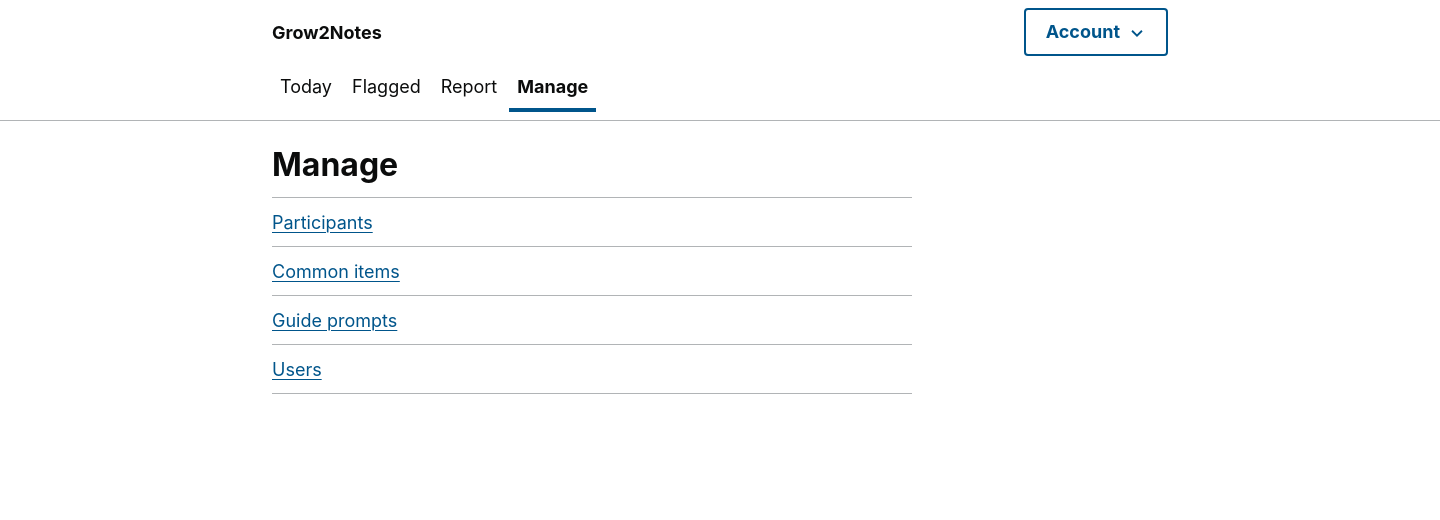
Manage › opens the participant list from Participants, not Page not found, with Manage still marked
Step 1. Click the link "Participants" → (322, 222), box [272, 212, 373, 232]
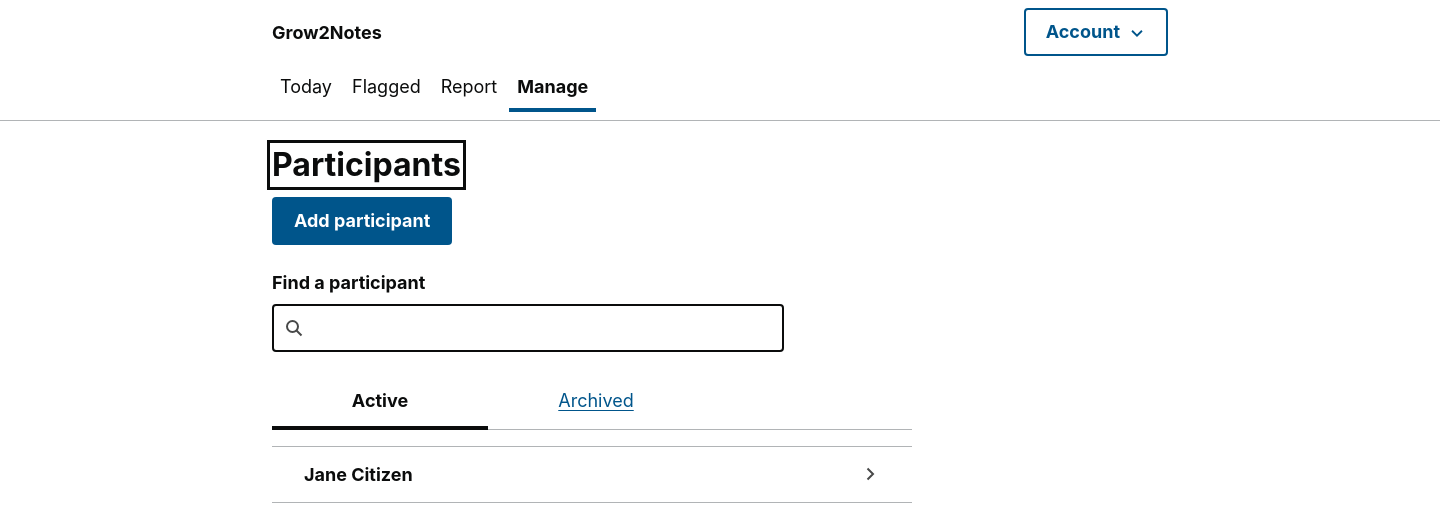
expect the link "Jane Citizen" is shown: met, box [304, 464, 413, 484]
